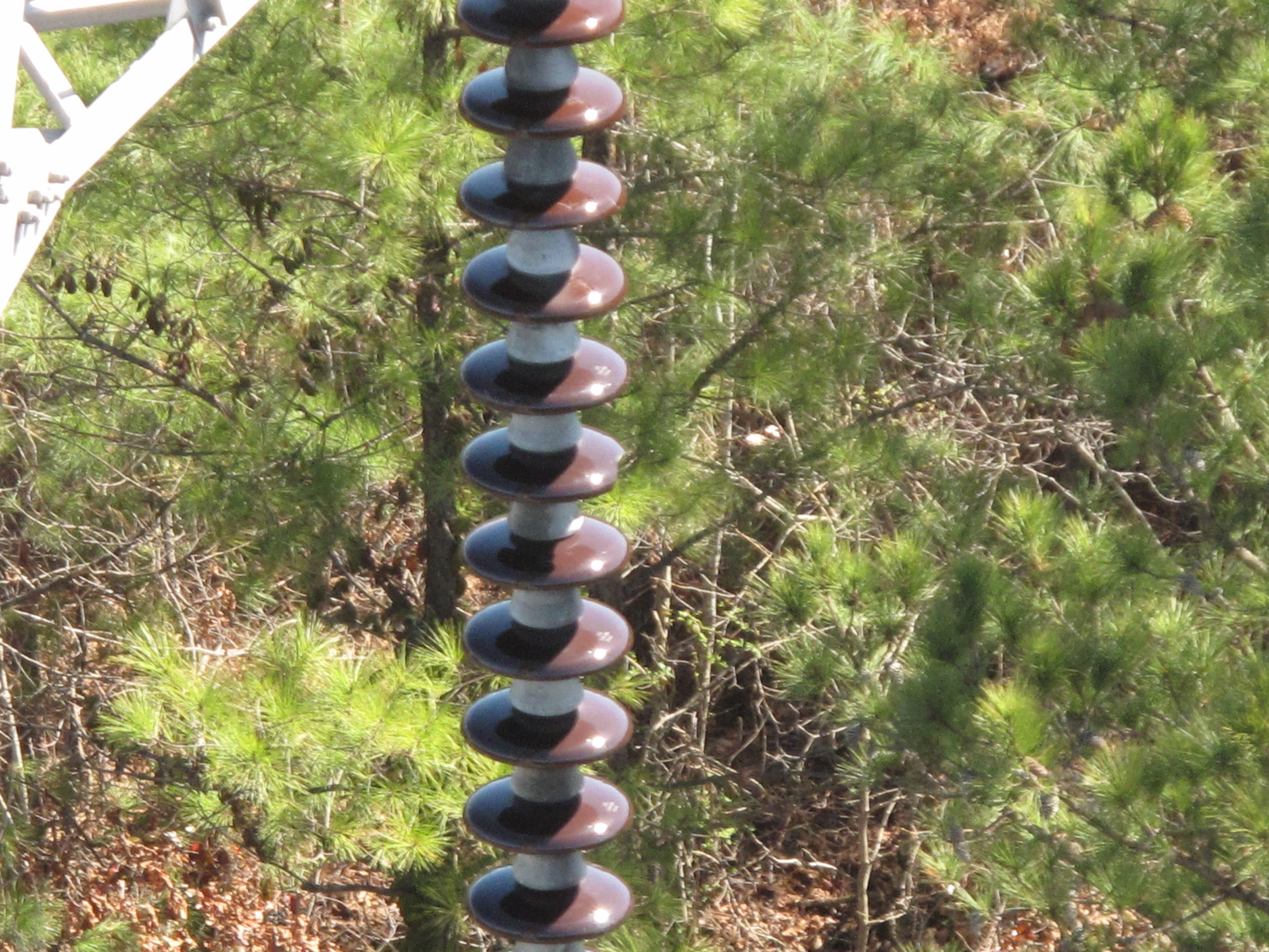damaged: (599, 446, 628, 487)
insulator: (451, 0, 636, 952)
